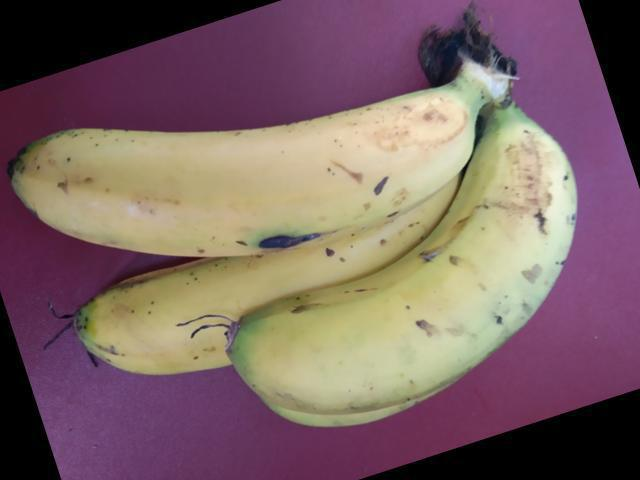ripe: (257, 110, 575, 457), (11, 77, 462, 239), (59, 239, 296, 392)
